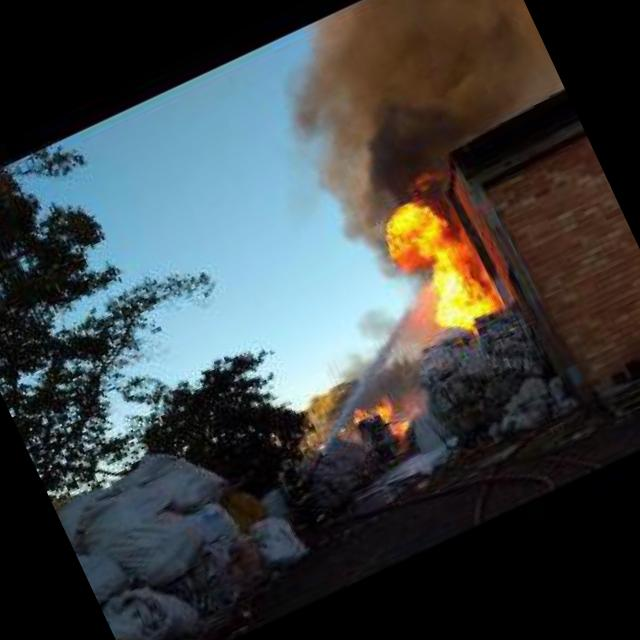fire: (372, 180, 508, 340), (342, 388, 412, 452)
smoke: (247, 0, 552, 223), (322, 285, 424, 395)
